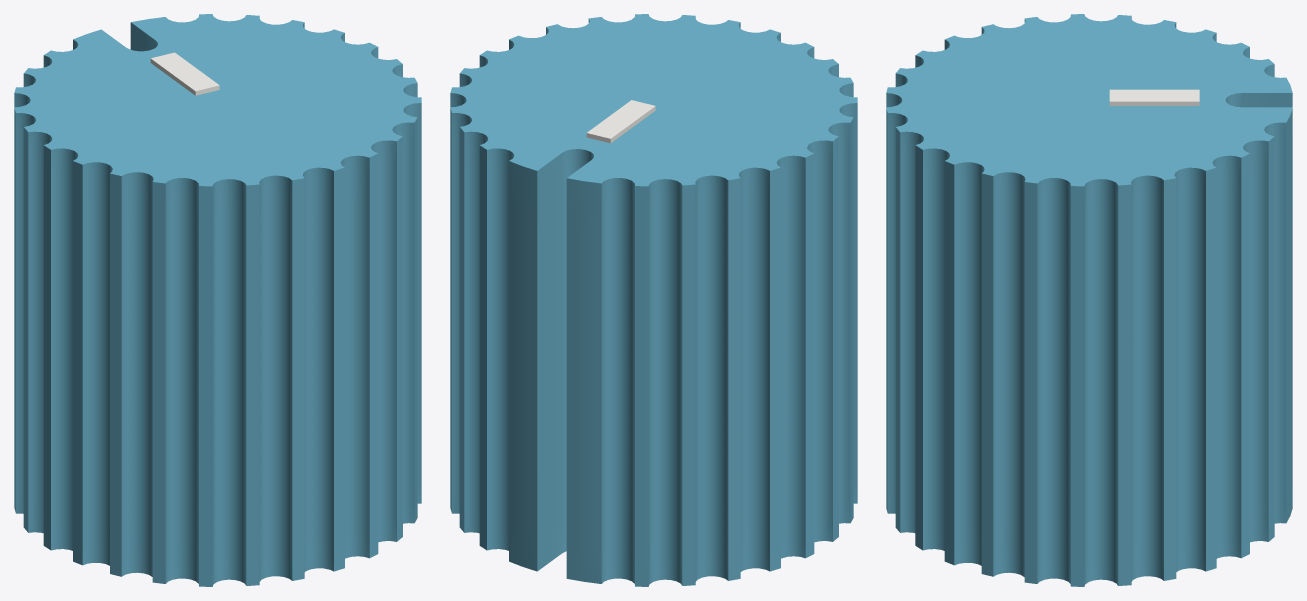
3 views of the same model, side by side, from view 1: azimuth 30°, elevation 25°; view 2: azimuth 150°, elevation 25°; view 3: azimuth 270°, elevation 25° (orthographic).
Visible parts, largest first — view 1: B/0000_emaitee_fluted_knob, B/0003_white_rotation_indicator; view 2: B/0000_emaitee_fluted_knob, B/0003_white_rotation_indicator; view 3: B/0000_emaitee_fluted_knob, B/0003_white_rotation_indicator.
Boxes of the visible parts, x1,y1,x2,y2 form: B/0000_emaitee_fluted_knob: (14,14,421,586); B/0003_white_rotation_indicator: (150,52,219,95); B/0000_emaitee_fluted_knob: (450,14,857,586); B/0003_white_rotation_indicator: (586,100,655,143); B/0000_emaitee_fluted_knob: (886,14,1292,586); B/0003_white_rotation_indicator: (1109,89,1199,105).
Size of the model in its own units: 0.0408 by 0.0478 by 0.0407.
